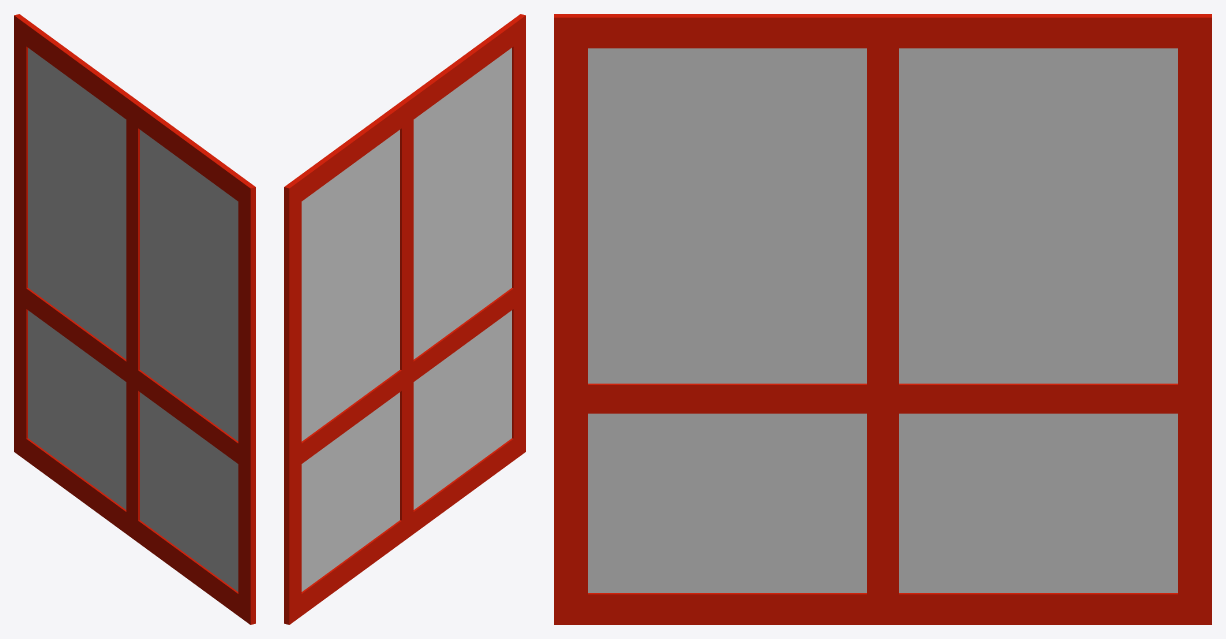
Rendered from window3.fbx.
3 renders of one model, left to right at view 1: azimuth 30°, elevation 25°; view 2: azimuth 150°, elevation 25°; view 3: azimuth 270°, elevation 25°, orthographic. The views are drawn at different scales.
Visible parts, largest first — view 1: Cube.361; view 2: Cube.361; view 3: Cube.361.
Part boxes in pixels (<box>): Cube.361: <box>14,14,255,624</box>; Cube.361: <box>284,14,525,624</box>; Cube.361: <box>554,14,1211,624</box>.
Bounding box in the file's own units: 2.55 × 195 × 192.
